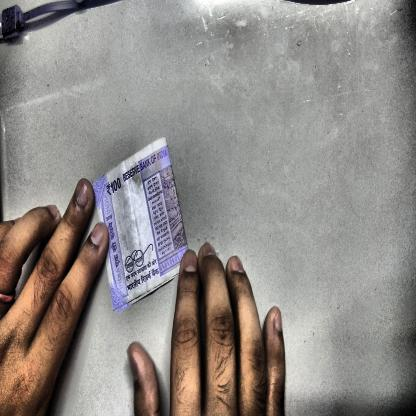Rs100: (103, 172, 124, 202)
